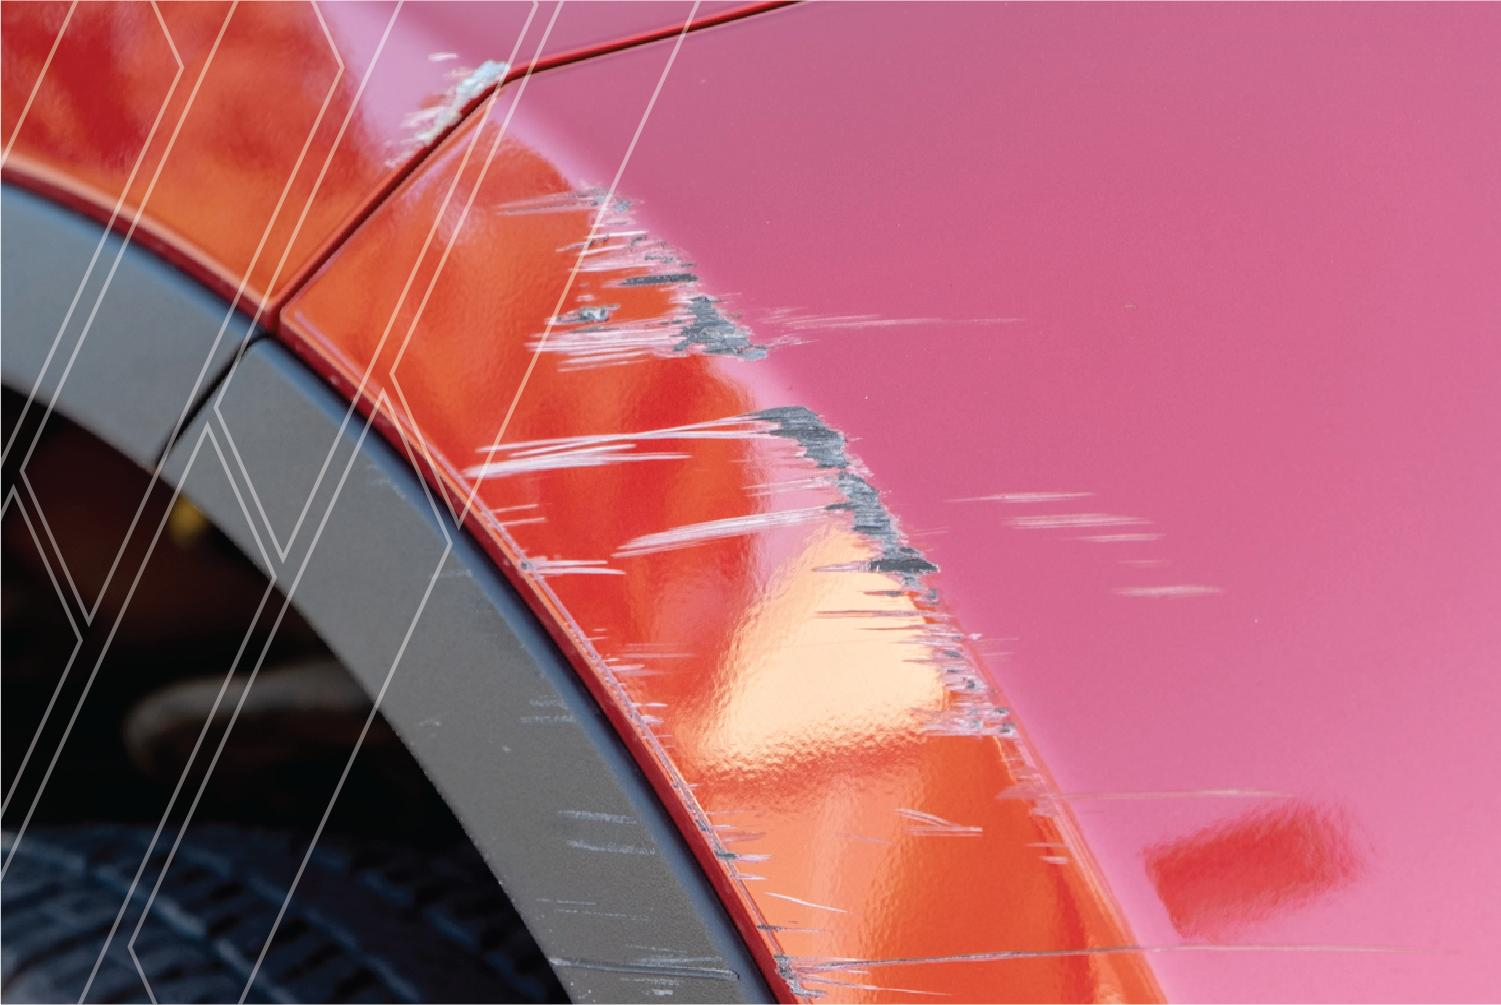scratch: (450, 144, 1459, 1004), (514, 647, 763, 1004), (350, 20, 560, 223)
